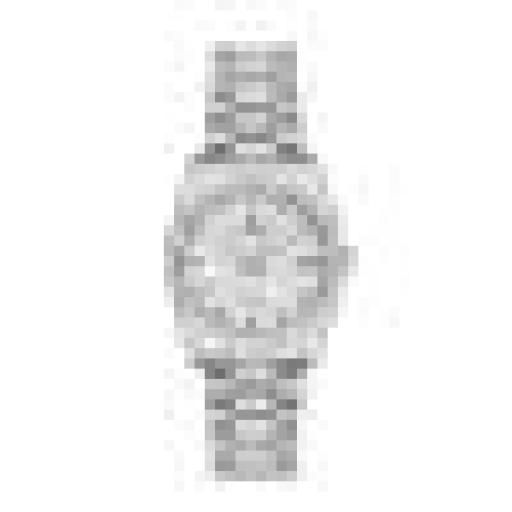KolSaati: (22, 18, 501, 494)
